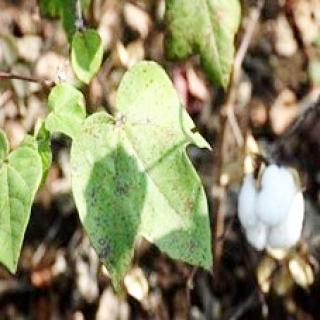leaf spot: (72, 64, 216, 278)
